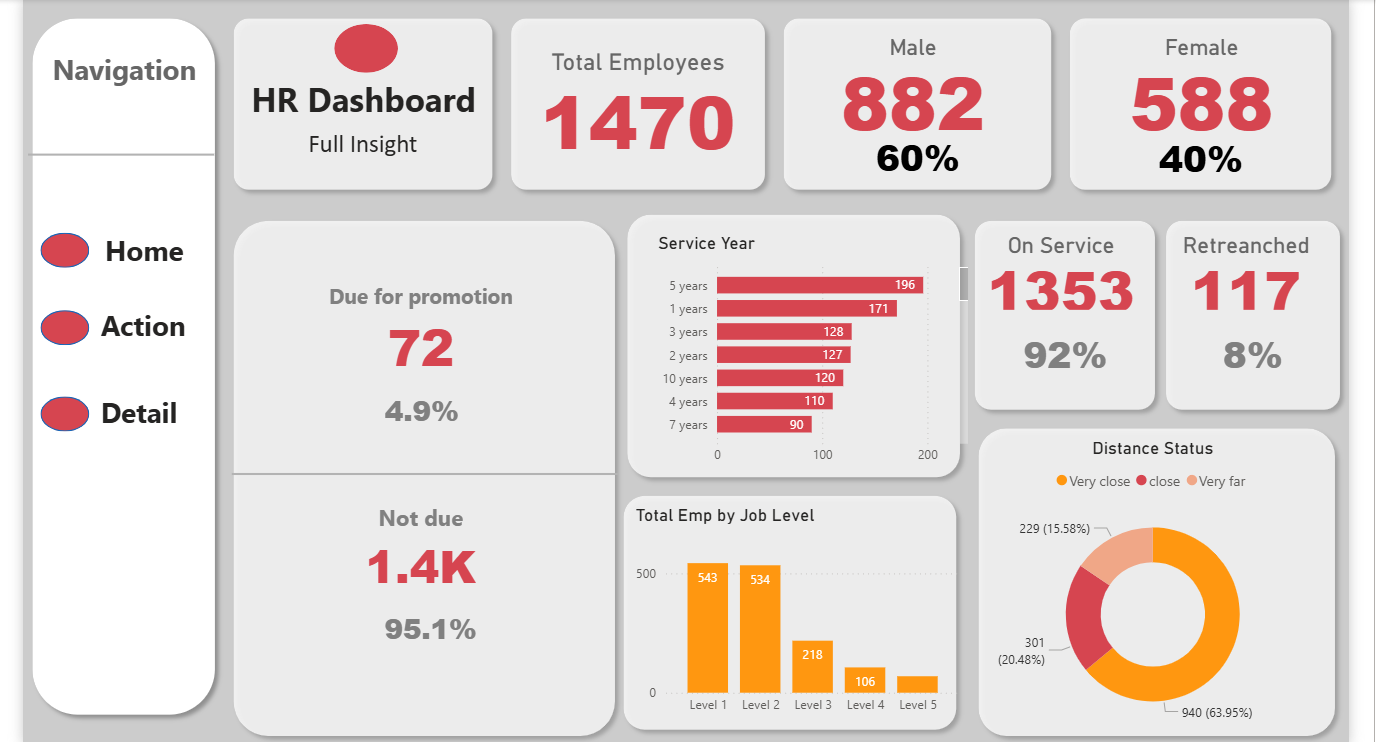

The dashboard page shown, as its layout file describes it:
{"tool":"powerbi","page":{"name":"Action","canvas":[1280,720],"ordinal":1},"visuals":[{"type":"shape","box":[0,9.7,194.2,690.1],"z":0},{"type":"shape","box":[194.2,9.7,267.8,183.4],"z":1000},{"type":"shape","box":[462.1,9.7,263,183.4],"z":2000},{"type":"shape","box":[725.1,9.7,276.3,183.4],"z":3000},{"type":"shape","box":[1001.3,9.7,270.2,183.4],"z":4000},{"type":"textbox","box":[184.6,70,288.3,62.7],"z":5000},{"type":"textbox","box":[270.2,119.4,119.4,42.2],"z":6000},{"type":"shape","box":[300.4,24.1,61.5,47.1],"z":7000},{"type":"card","title":"Total Employees","fields":{"Values":["All Measures.Total Emp"]},"box":[485,47.1,217.2,105],"z":8000},{"type":"card","title":"Male","fields":{"Values":["All Measures.Male"]},"box":[783,33.8,152,98.9],"z":9000},{"type":"card","title":"Female","fields":{"Values":["All Measures.Female"]},"box":[1060.5,33.8,154.4,98.9],"z":10000},{"type":"card","title":"Male","fields":{"Values":["All Measures.%male"]},"box":[818,132.7,91.7,39.8],"z":11000},{"type":"card","title":"Female","fields":{"Values":["All Measures.%female"]},"box":[1044.8,101.3,184.6,105],"z":12000},{"type":"textbox","box":[16.9,44.6,161.7,51.9],"z":13000},{"type":"shape","box":[4.8,0,179.8,300.4],"z":14000},{"type":"tableEx","fields":{"Values":["HR Analytics Data.Emplyee name","All Measures.Due for promotion"]},"box":[207.5,193,345,506.7],"z":15000},{"type":"tableEx","fields":{"Values":["HR Analytics Data.Emplyee name","All Measures.Will be retreanched"]},"box":[565.8,193,358.3,506.7],"z":16000},{"type":"shape","box":[944.6,193,312.5,506.7],"z":17000},{"type":"textbox","box":[950.7,328.2,300.4,152],"z":18000},{"type":"shape","box":[16.9,225.6,47.1,33.8],"z":18001},{"type":"shape","box":[18.1,300.4,47.1,33.8],"z":18002},{"type":"shape","box":[16.9,370.4,47.1,33.8],"z":18003},{"type":"textbox","box":[74.8,217.2,94.1,50.7],"z":18004},{"type":"textbox","box":[74.8,292,94.1,50.7],"z":18005},{"type":"textbox","box":[74.8,361.9,94.1,50.7],"z":18006}]}

Visuals, with their boxes on the page's 1280x720 design canvas (x1, y1, x2, y2). These are canvas units, not pixel positions in the 1376x742 screenshot, which may show the page scaled, cropped or inside an application window:
shape: (0, 10, 194, 700)
shape: (194, 10, 462, 193)
shape: (462, 10, 725, 193)
shape: (725, 10, 1001, 193)
shape: (1001, 10, 1272, 193)
textbox: (185, 70, 473, 133)
textbox: (270, 119, 390, 162)
shape: (300, 24, 362, 71)
"Total Employees" card: (485, 47, 702, 152)
"Male" card: (783, 34, 935, 133)
"Female" card: (1060, 34, 1215, 133)
"Male" card: (818, 133, 910, 172)
"Female" card: (1045, 101, 1229, 206)
textbox: (17, 45, 179, 96)
shape: (5, 0, 185, 300)
tableEx - HR Analytics Data.Emplyee name x All Measures.Due for promotion: (208, 193, 552, 700)
tableEx - HR Analytics Data.Emplyee name x All Measures.Will be retreanched: (566, 193, 924, 700)
shape: (945, 193, 1257, 700)
textbox: (951, 328, 1251, 480)
shape: (17, 226, 64, 259)
shape: (18, 300, 65, 334)
shape: (17, 370, 64, 404)
textbox: (75, 217, 169, 268)
textbox: (75, 292, 169, 343)
textbox: (75, 362, 169, 413)
